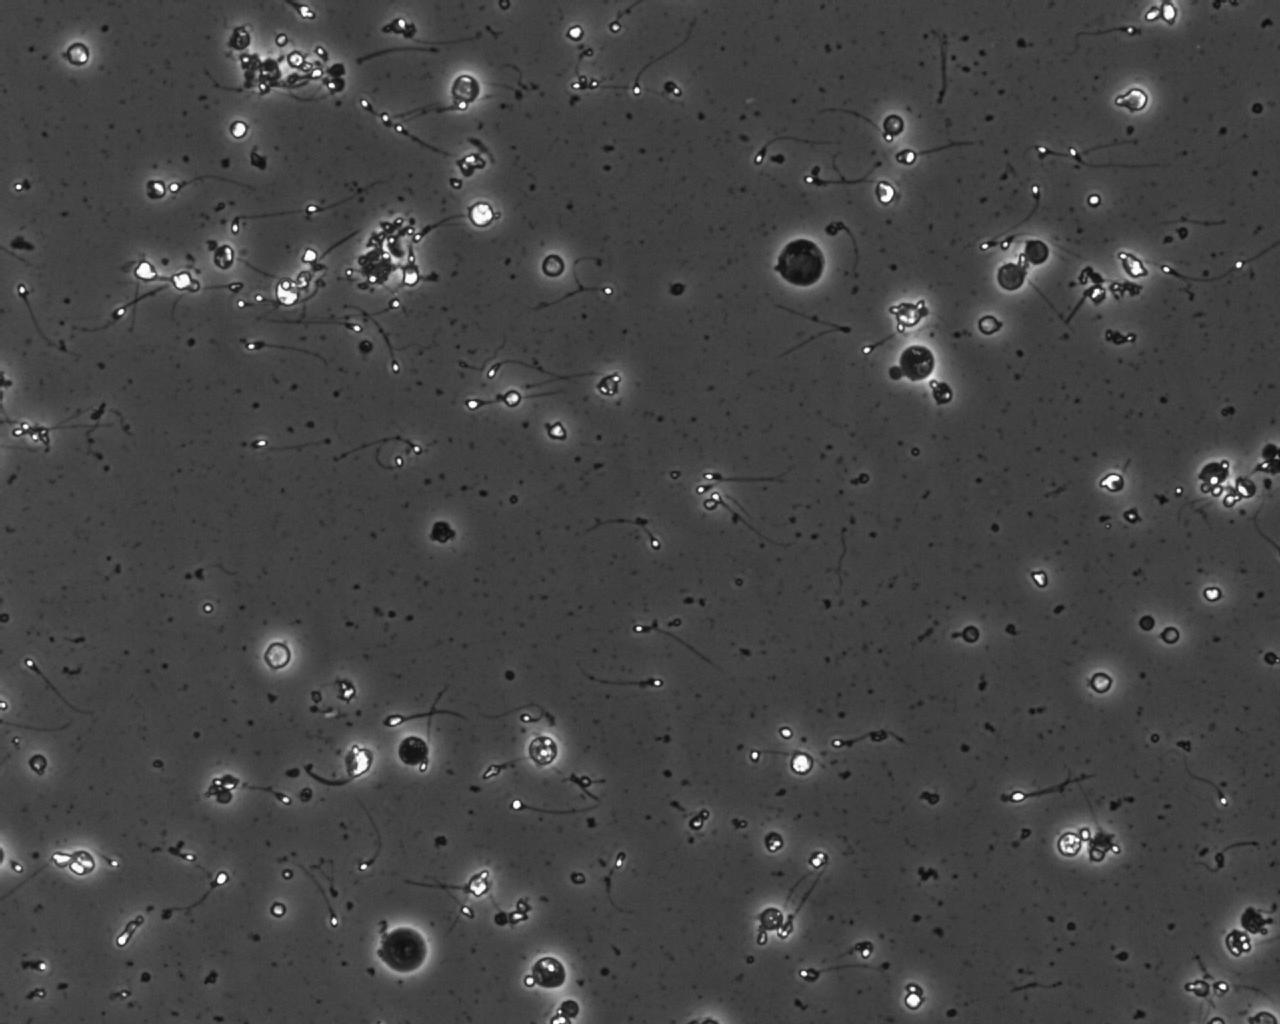cell: (767, 229, 835, 296), (891, 338, 942, 389), (392, 729, 435, 771), (445, 68, 487, 110), (522, 730, 564, 771), (257, 636, 297, 676), (992, 257, 1030, 296), (1195, 458, 1234, 489), (465, 197, 499, 232), (892, 298, 927, 332), (1053, 828, 1087, 861), (1020, 236, 1052, 269), (538, 250, 569, 282), (786, 748, 818, 779), (225, 22, 255, 54), (63, 38, 93, 70), (427, 517, 459, 548), (870, 176, 900, 208), (210, 240, 239, 273), (879, 110, 909, 140), (1086, 668, 1116, 698), (974, 311, 1005, 339), (1230, 473, 1261, 501), (760, 828, 788, 857), (143, 176, 171, 204), (283, 45, 310, 72), (225, 116, 252, 143), (957, 621, 984, 648), (1156, 622, 1184, 648), (562, 21, 589, 46), (499, 385, 525, 412), (1198, 582, 1226, 606), (1135, 611, 1160, 636), (884, 362, 906, 385)
